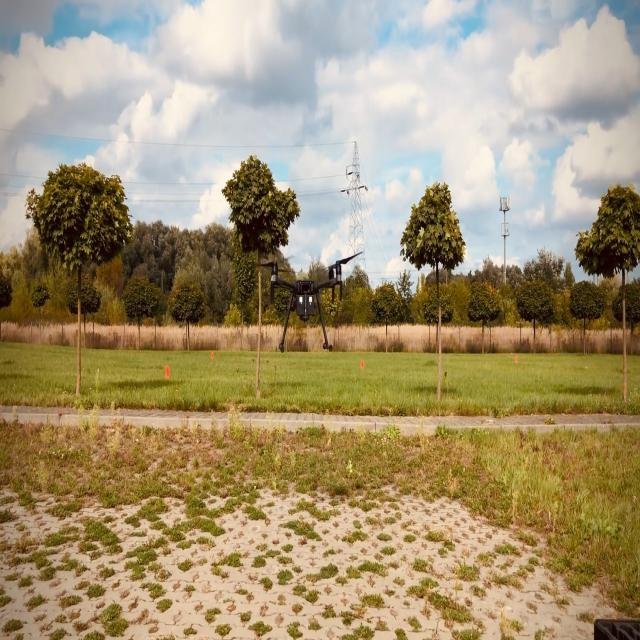drone: (260, 249, 364, 352)
